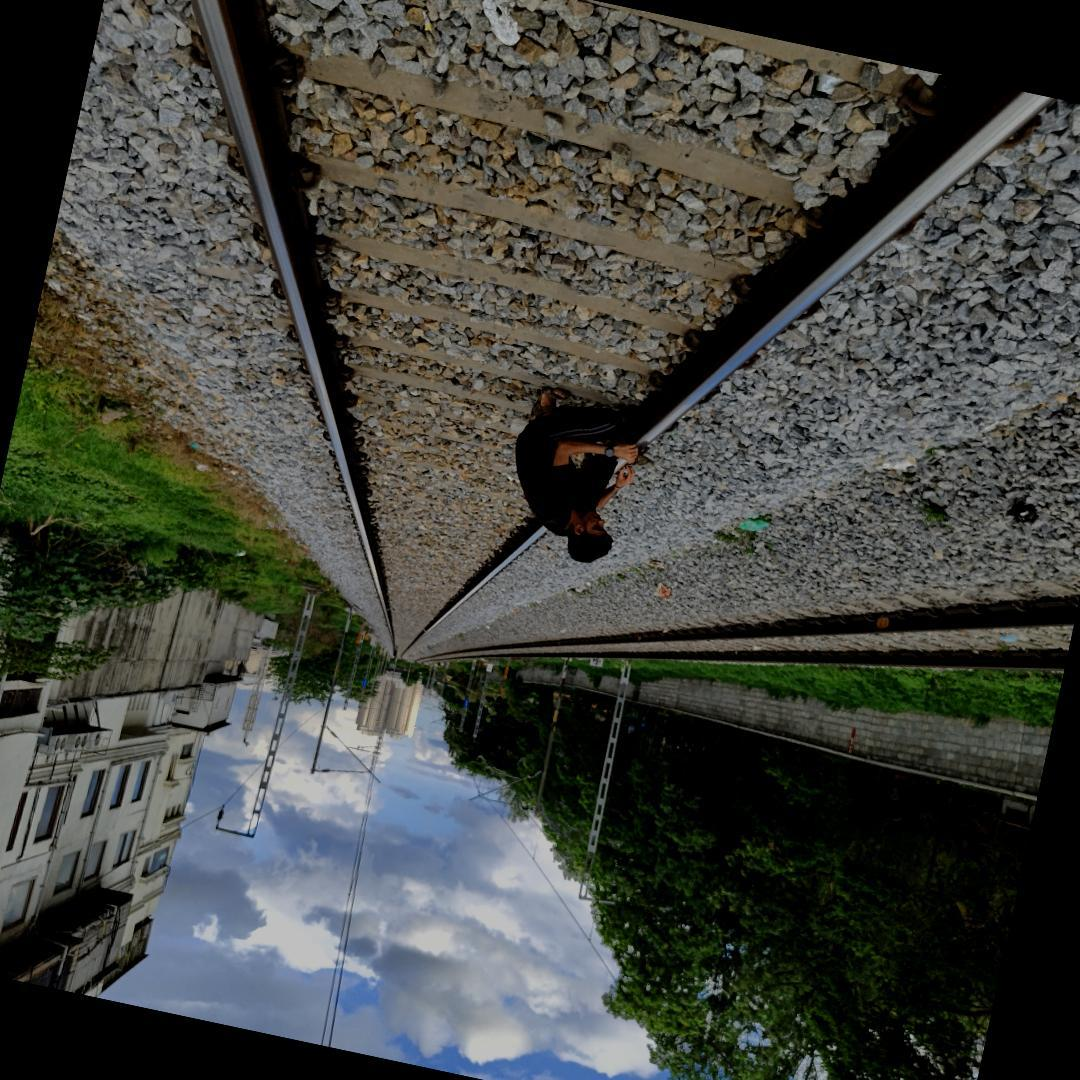sitting: (487, 373, 661, 572)
